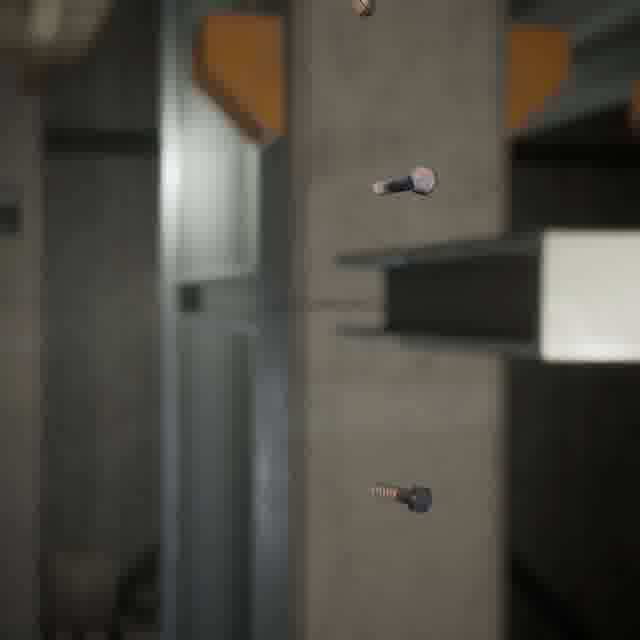bolt: (367, 160, 442, 199), (366, 478, 436, 517), (346, 0, 382, 22)
